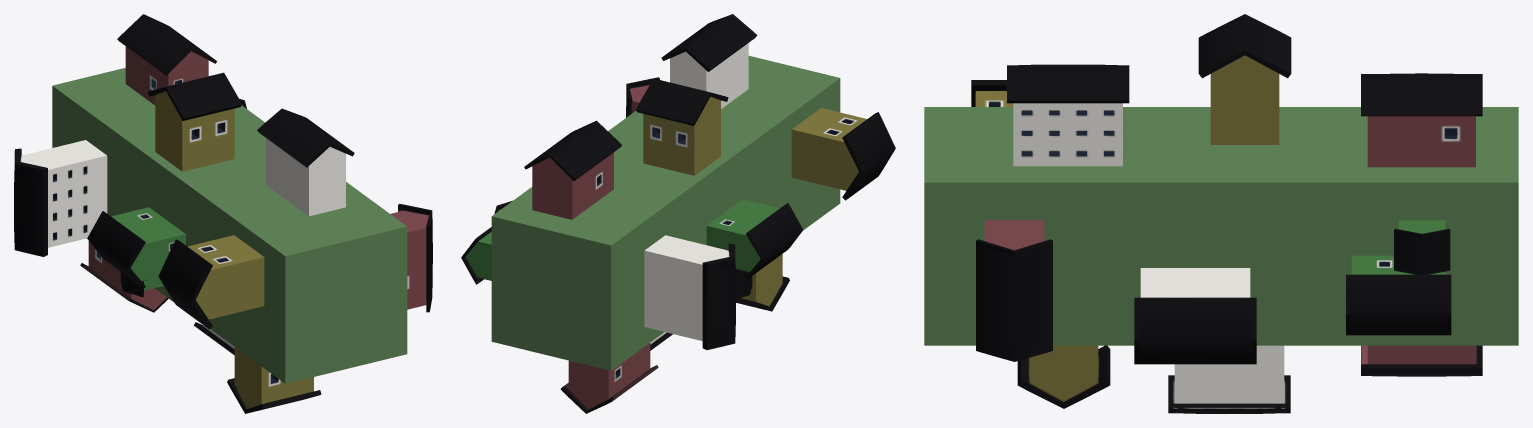
The model's file is rotatingPlatform.obj.
3 renders of one model, left to right at view 1: azimuth 30°, elevation 25°; view 2: azimuth 150°, elevation 25°; view 3: azimuth 270°, elevation 25°, orthographic. The views are drawn at different scales.
Parts seen in each view (by area): view 1: pCube14; view 2: pCube14; view 3: pCube14.
Boxes of the visible parts, x1,y1,x2,y2 form: pCube14: [14, 14, 432, 413]; pCube14: [461, 14, 895, 413]; pCube14: [924, 14, 1518, 413].
Bounding box in the file's own units: 17.62 × 16.7 × 25.28.
